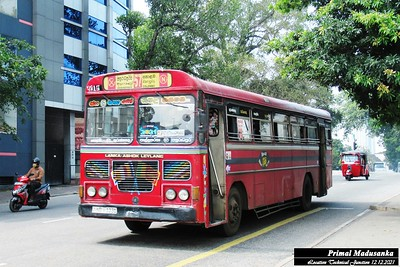bus: (77, 69, 331, 236)
motorbike: (9, 173, 51, 212)
threewheel: (339, 152, 370, 181)
